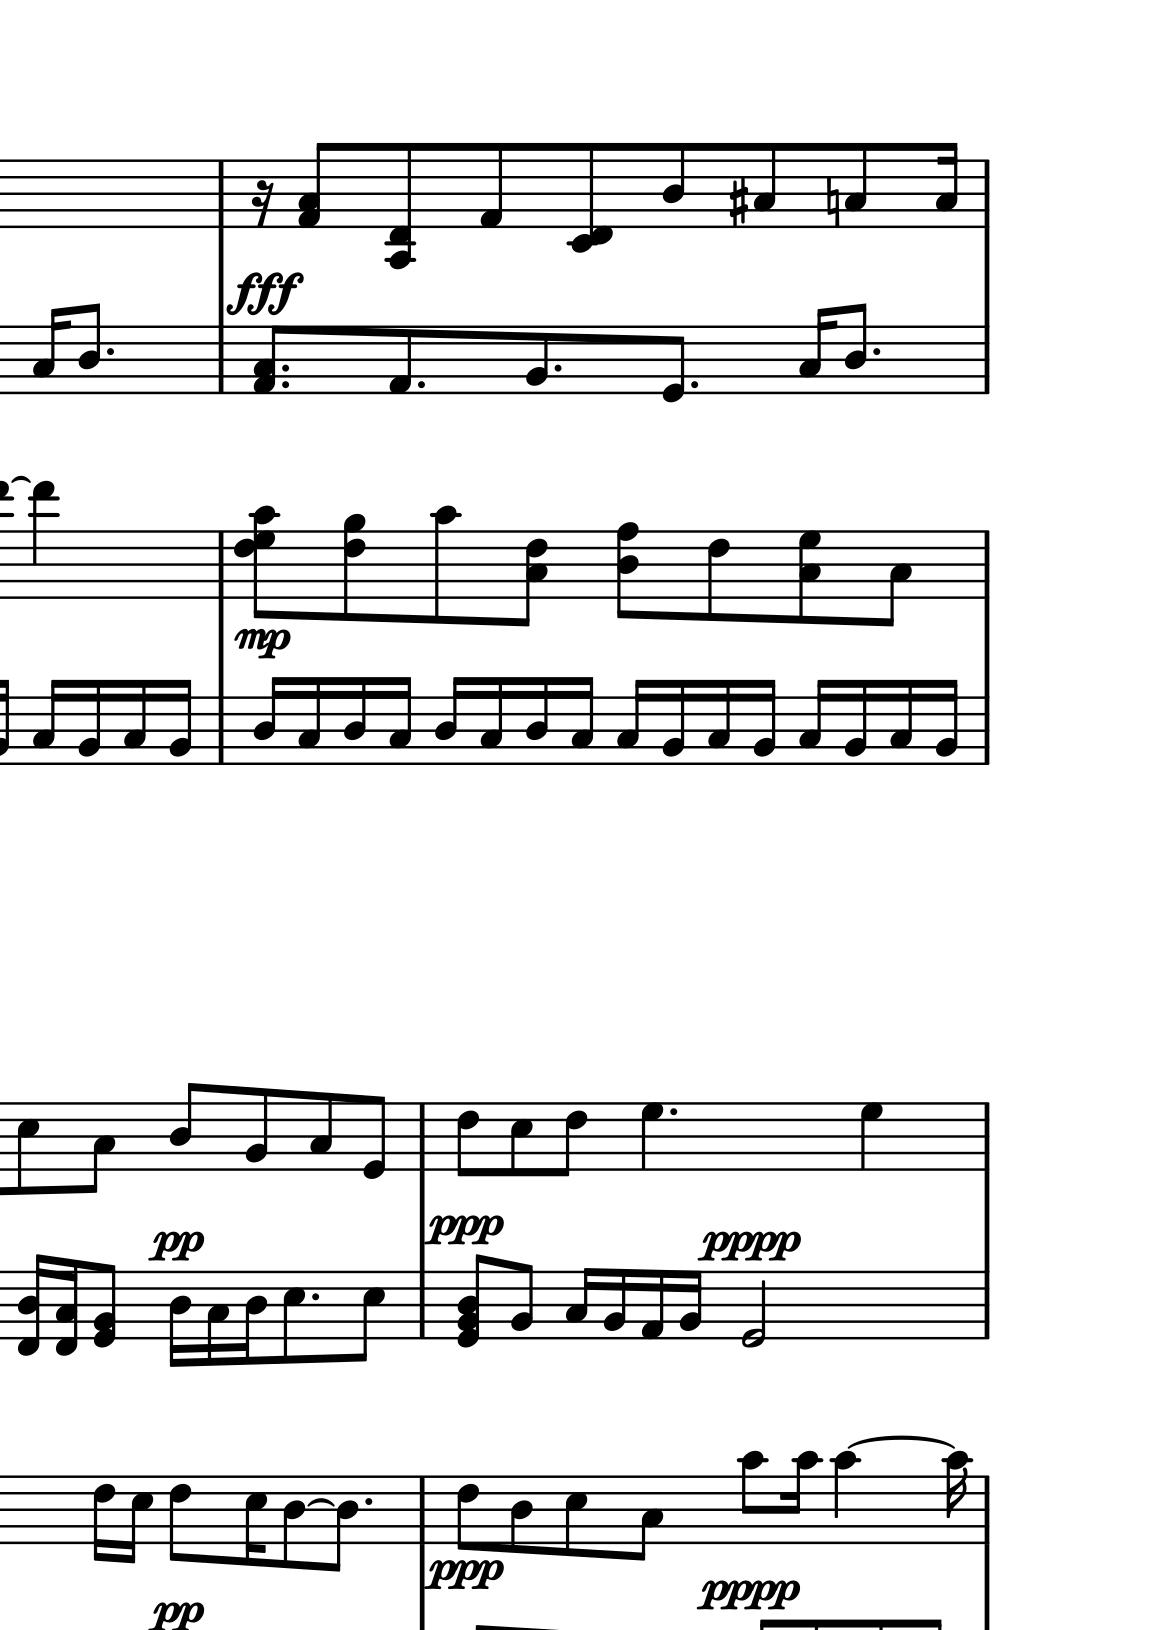16_-1_3: (54, 1256, 81, 1356)
16_-1_4: (16, 1252, 47, 1358)
16_1: (640, 1269, 666, 1342)
16_10: (784, 1451, 822, 1547), (941, 1447, 972, 1544)
16_2: (751, 677, 778, 766), (934, 678, 961, 768), (76, 678, 103, 766), (167, 678, 194, 766), (661, 678, 688, 766), (843, 678, 870, 766), (602, 1267, 630, 1341), (678, 1269, 704, 1342)
16_3: (30, 305, 72, 396), (797, 305, 837, 396), (613, 678, 648, 766), (797, 678, 832, 766), (30, 678, 64, 766), (295, 675, 324, 766), (478, 675, 506, 766), (204, 1269, 229, 1367), (706, 678, 733, 766), (888, 678, 915, 766), (564, 1266, 596, 1341), (386, 674, 413, 766), (569, 674, 595, 766), (122, 678, 148, 766), (934, 140, 959, 229)
16_4: (433, 674, 466, 766), (251, 675, 284, 766), (237, 1270, 267, 1368), (167, 1270, 192, 1370), (342, 674, 368, 766), (525, 675, 551, 766)
16_5: (123, 1474, 155, 1564), (242, 1474, 268, 1568)
16_6: (91, 1474, 116, 1564)
2_0: (741, 1270, 768, 1350)
4_10: (832, 1449, 862, 1547)
4_13: (29, 480, 57, 602)
4_7: (859, 1102, 885, 1173), (640, 1102, 665, 1173)
8_-2_-1: (565, 143, 617, 254)
8_-4_-1: (384, 142, 416, 269)
8_0: (360, 1093, 388, 1183), (661, 323, 688, 405)
8_0_2: (92, 1262, 118, 1347)
8_1: (476, 141, 504, 231), (386, 324, 414, 398)
8_10: (426, 503, 461, 628), (737, 1449, 768, 1547)
8_1_3: (295, 141, 334, 229), (252, 325, 288, 396)
8_2: (243, 1087, 271, 1173), (509, 1262, 535, 1341), (525, 324, 550, 398)
8_3: (878, 528, 913, 631), (82, 1100, 117, 1195), (630, 1474, 665, 1561), (752, 141, 779, 231), (307, 1090, 335, 1173), (843, 142, 869, 229)
8_3_6: (512, 528, 551, 627)
8_3_7: (795, 528, 824, 627)
8_4: (327, 1473, 359, 1575), (168, 1080, 201, 1171), (661, 141, 688, 229), (281, 1474, 305, 1571), (79, 302, 101, 396), (844, 302, 866, 396), (509, 1474, 534, 1555)
8_4_8: (615, 521, 642, 621)
8_5: (352, 1270, 386, 1365), (14, 1100, 40, 1198), (281, 1270, 305, 1367), (564, 1474, 588, 1559), (507, 1100, 534, 1178)
8_6: (704, 528, 732, 626), (555, 1100, 588, 1179), (168, 1474, 192, 1565), (455, 1473, 481, 1551), (455, 1102, 480, 1179)
8_6_9: (342, 513, 369, 622)
8_th: (234, 503, 283, 626), (458, 1257, 487, 1347)
Natural: (823, 174, 842, 231)
Rests16: (249, 178, 276, 229)
Sharp: (726, 176, 751, 229)
Single_barline: (208, 160, 233, 227), (209, 531, 234, 598), (975, 697, 997, 765), (209, 697, 232, 764), (410, 1103, 433, 1170), (975, 1272, 997, 1340), (209, 326, 232, 393), (975, 531, 997, 597), (975, 1103, 997, 1169), (975, 326, 996, 394), (410, 1477, 431, 1543), (976, 160, 996, 228), (411, 1272, 431, 1340), (976, 1477, 996, 1544)
Slur: (845, 1433, 958, 1451), (305, 1499, 335, 1509)
dot: (550, 359, 566, 378), (687, 376, 702, 395), (414, 376, 429, 393), (666, 1104, 679, 1120), (277, 378, 292, 391), (103, 345, 117, 359), (307, 1290, 320, 1304), (278, 361, 290, 375), (362, 1495, 374, 1508), (870, 345, 881, 358)
fff: (229, 268, 305, 320)
mp: (231, 621, 292, 662)
pp: (147, 1227, 204, 1264), (147, 1598, 206, 1630)
ppp: (424, 1210, 507, 1249), (424, 1556, 502, 1593)
pppp: (691, 1574, 802, 1613), (696, 1225, 803, 1262)
